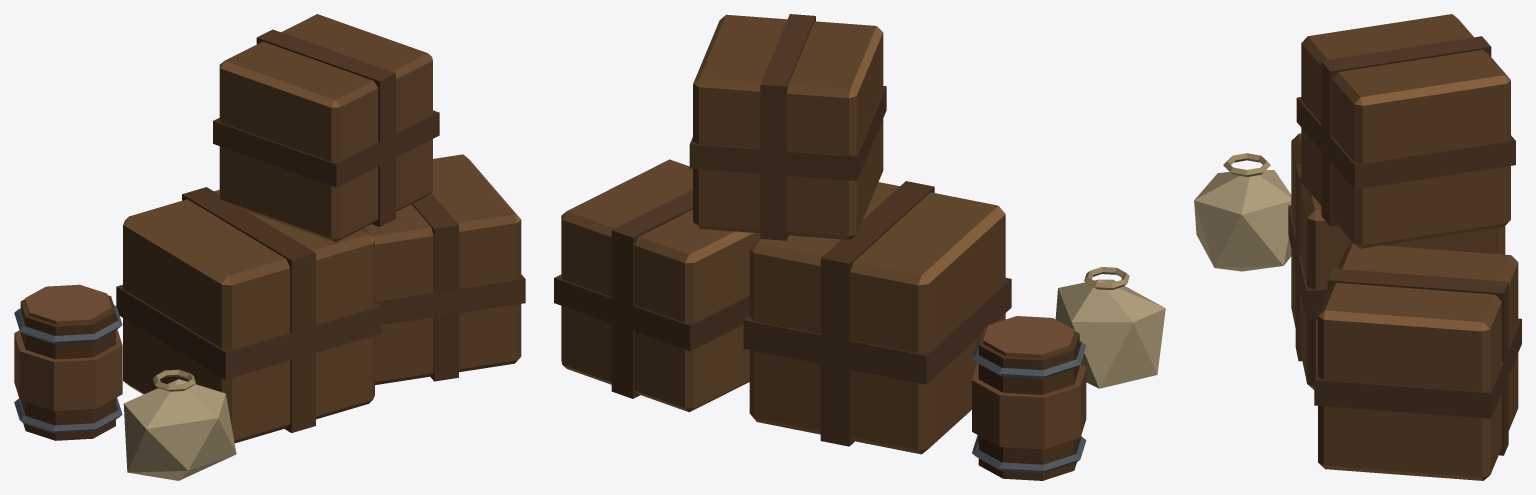
Rendered from crates.glb.
3 renders of one model, left to right at view 1: azimuth 30°, elevation 25°; view 2: azimuth 150°, elevation 25°; view 3: azimuth 270°, elevation 25°, orthographic. The views are drawn at different scales.
Parts seen in each view (by area): view 1: Crates; view 2: Crates; view 3: Crates.
Part boxes in pixels (x1,y1,x2,y2): Crates: (14,14,525,480); Crates: (554,14,1165,480); Crates: (1194,14,1521,480).
Bounding box in the file's own units: 1.46 × 0.985 × 0.8237.
